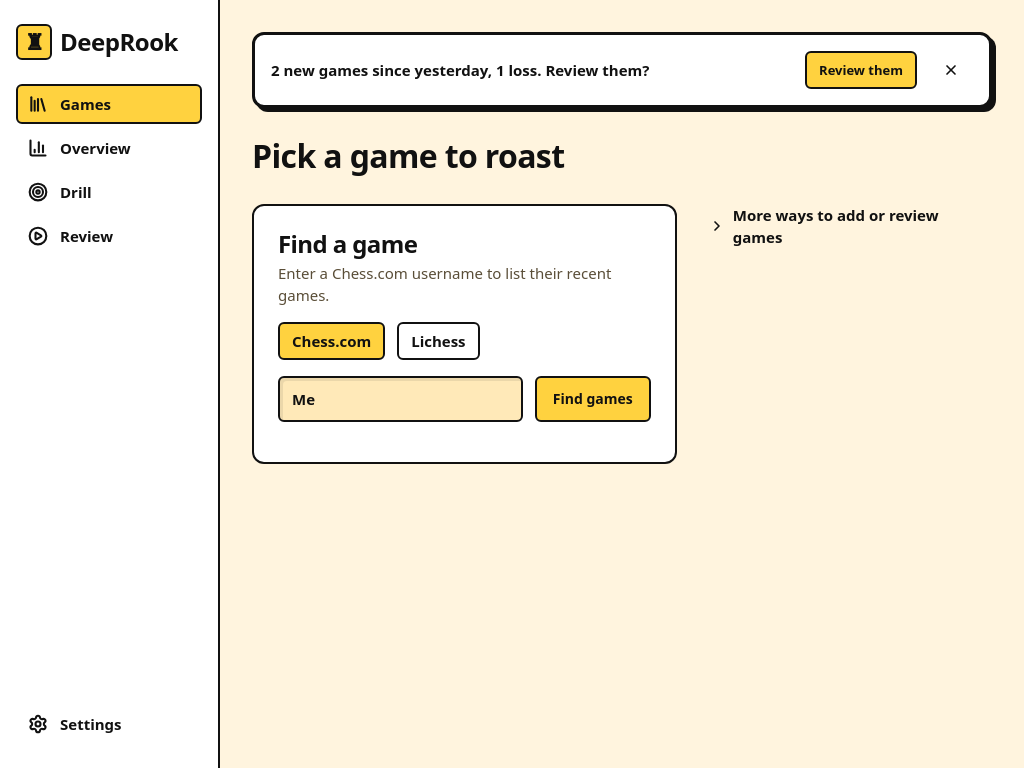
Scenario: Review them runs the batch on exactly those games, skipping saved ones
What coordinates should you click on to do the following:
click the button "Review them"
I would click on:
 (861, 70)
Its box is [805, 51, 917, 89].
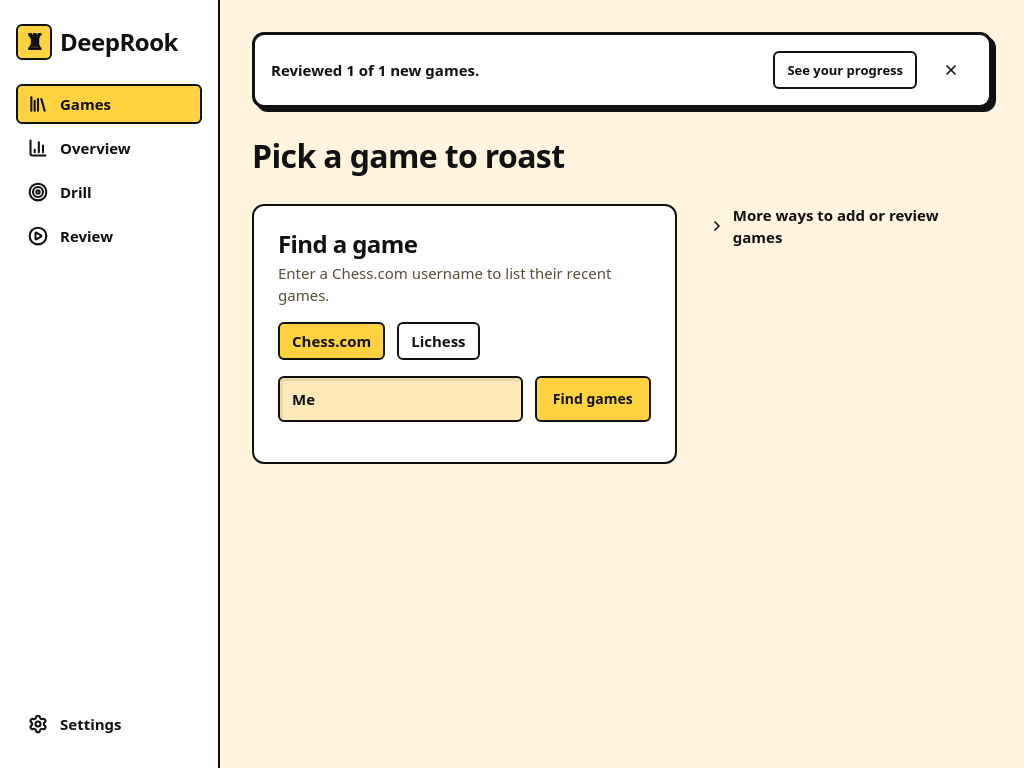
Expected: the text "Reviewed 1 of 1 new games." is shown, [271, 60, 479, 80]
